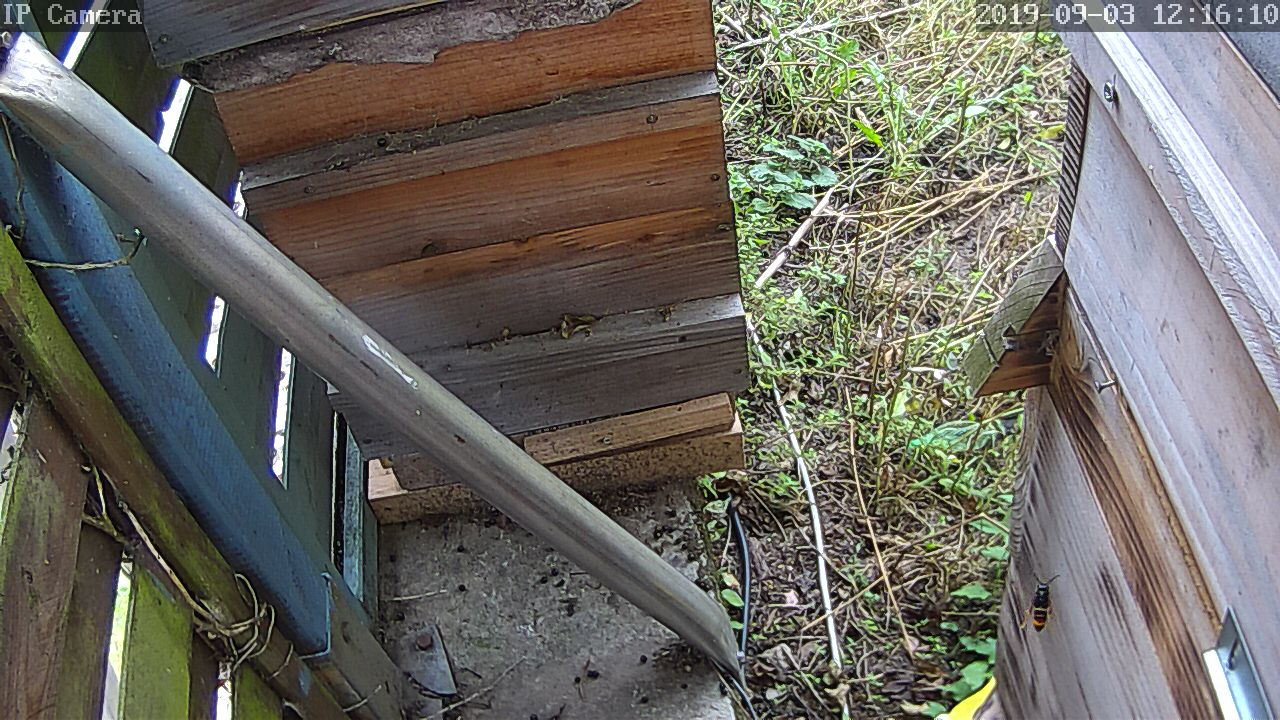hornet: (1008, 576, 1053, 640)
